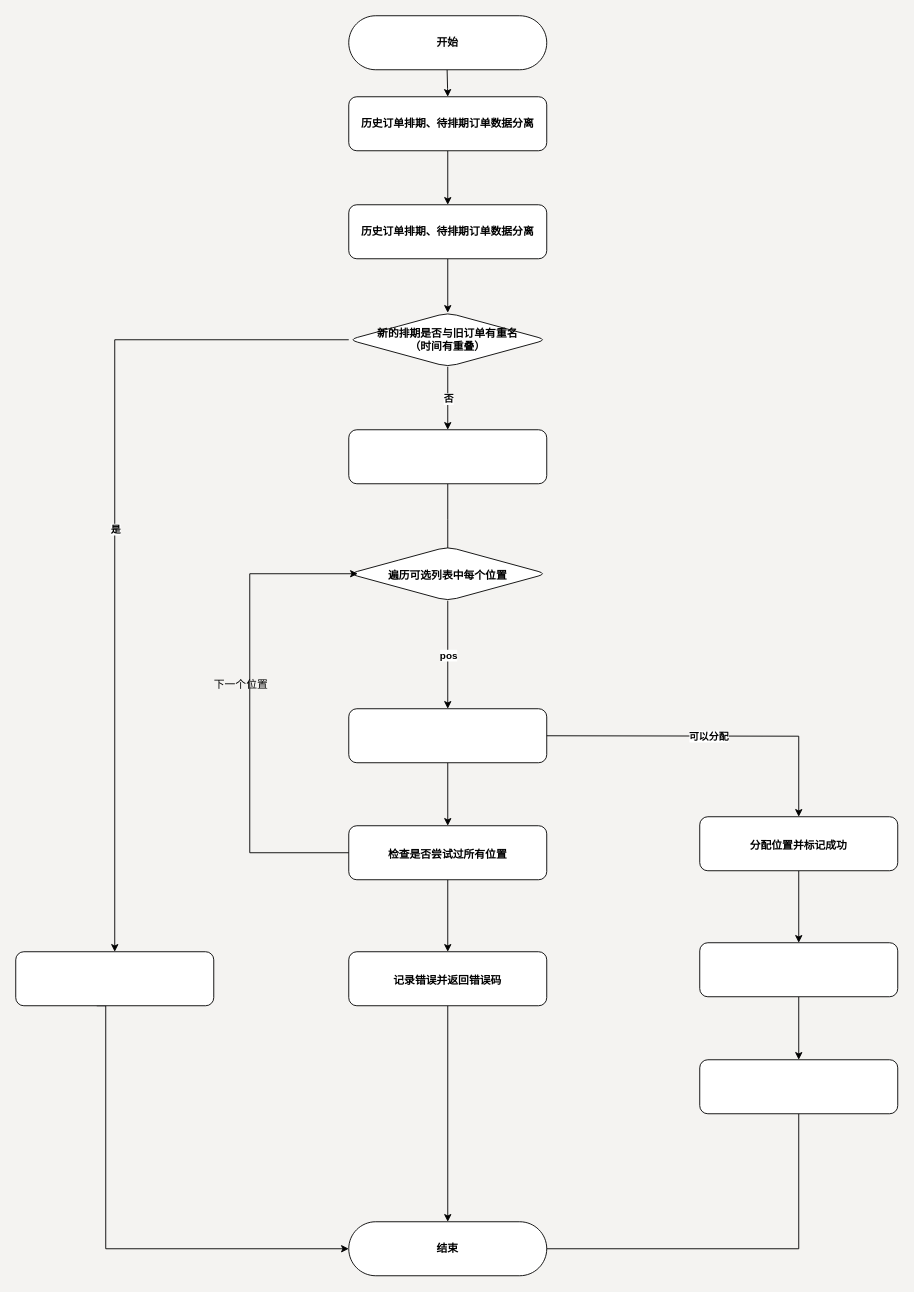
Some shapes in this 914 by 1292 pixel diagram are drawn without their labels. Here are the shapes that lost their labels. From the top down, the centre of each, then its label:
At (447,456): "检查是否使用了附加位置（第五快链） 如有增加到可选列表 无默认5/6/7/8位置可选".
At (447,735): "检查是否可以分配 （与历史订单无排期冲突即可选）".
At (114,978): "返回code=ErrCodeFastLinkNameSameErr".
At (798,969): "将新排期加入现有列表".
At (798,1086): "所有新排期处理完毕".
